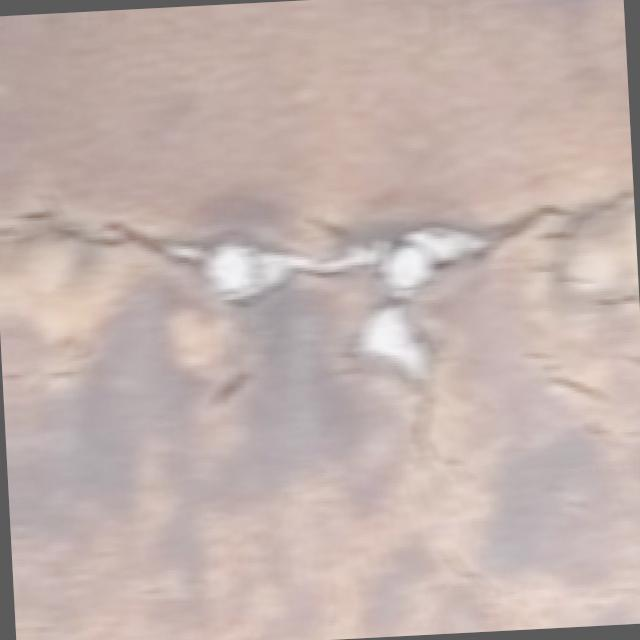crack: (70, 192, 198, 282)
